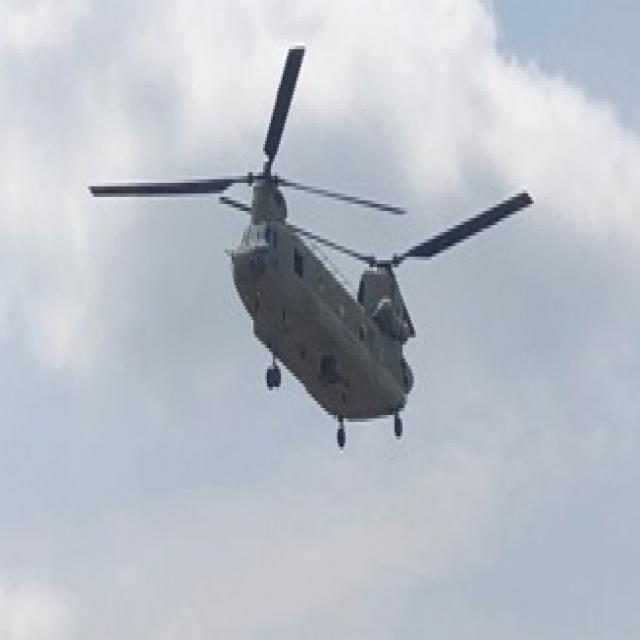helicopter: (91, 50, 535, 451)
